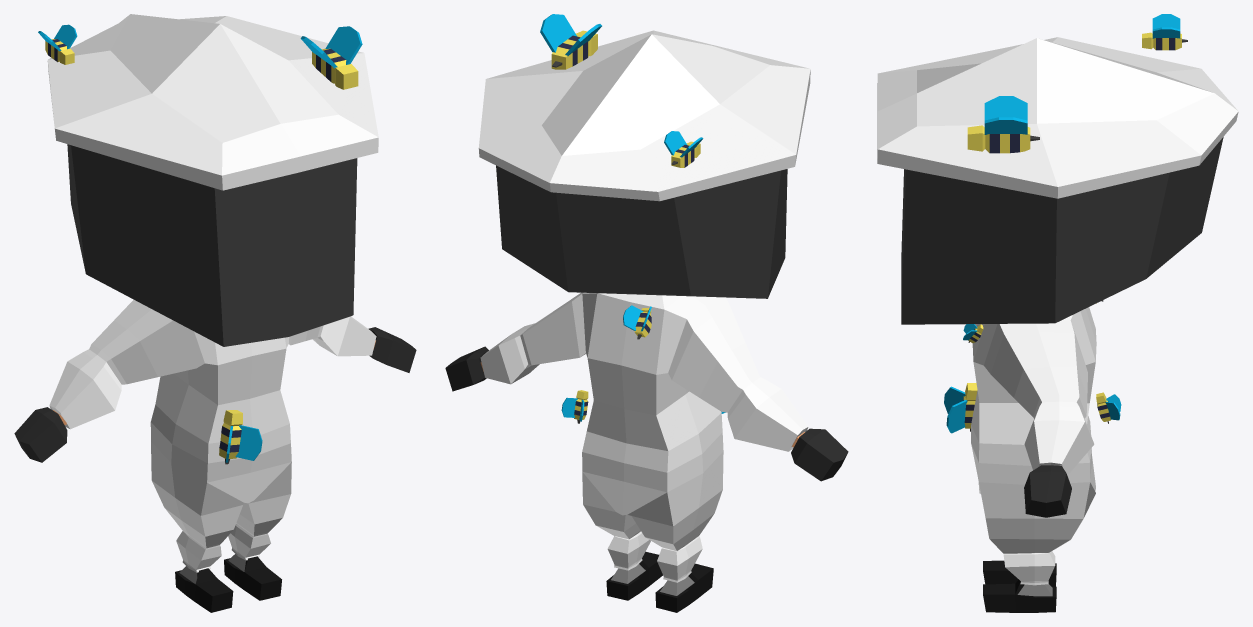
The model's file is GMDS_BeeKeeper_Model_ST002122721.fbx.
3 renders of one model, left to right at view 1: azimuth 30°, elevation 25°; view 2: azimuth 150°, elevation 25°; view 3: azimuth 270°, elevation 25°, orthographic.
Visible parts, largest first — view 1: BeezNeez; view 2: BeezNeez; view 3: BeezNeez.
Boxes of the visible parts, x1=… form: BeezNeez: x1=14, y1=14, x2=416, y2=612; BeezNeez: x1=445, y1=14, x2=848, y2=612; BeezNeez: x1=877, y1=14, x2=1238, y2=612.
Bounding box in the file's own units: 164 × 225 × 132.
